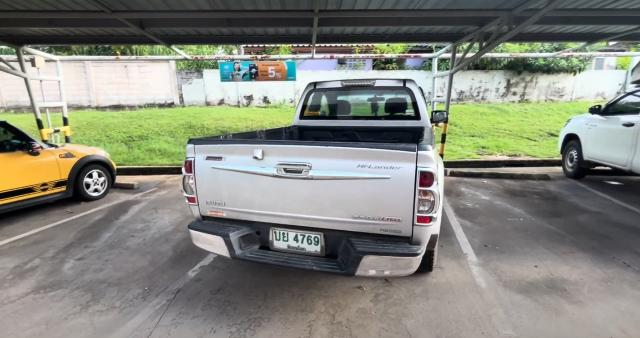pickup-truck: (179, 78, 447, 289)
